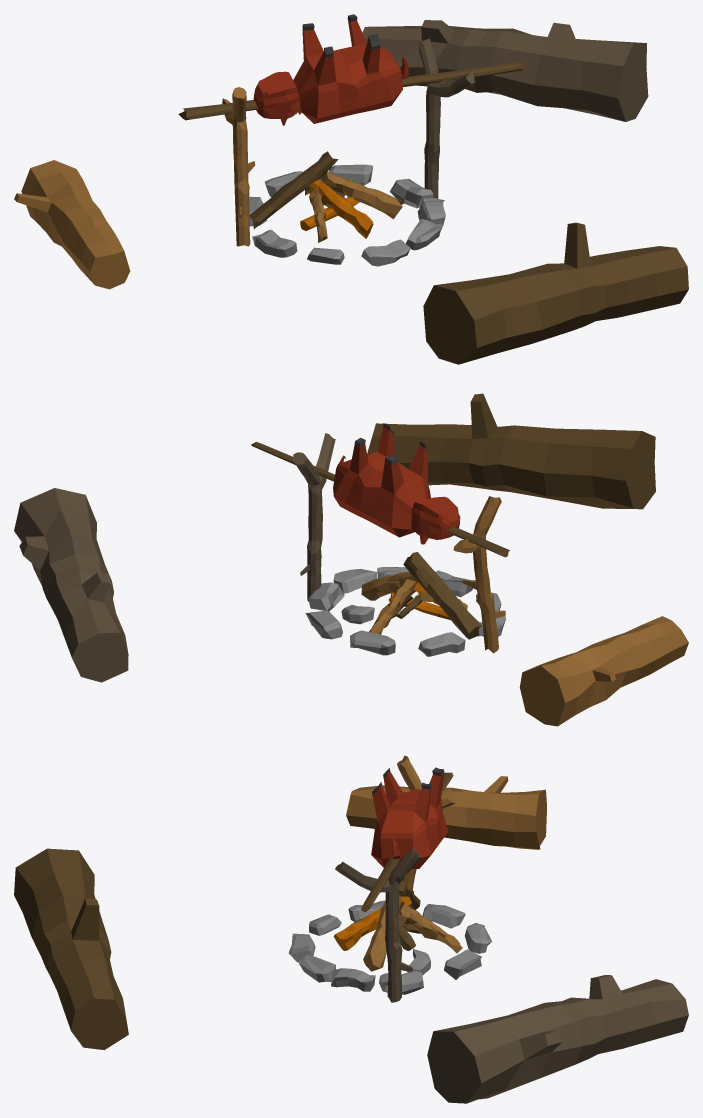
File: Army camp bonfire.fbx
The picture shows the model from 3 angles, top to bottom: view 1: azimuth 30°, elevation 25°; view 2: azimuth 150°, elevation 25°; view 3: azimuth 270°, elevation 25°; orthographic projection. The views are drawn at different scales.
Visible parts, largest first — view 1: Cylinder, Cube.010, Cylinder.011, Cylinder.012, Cylinder.013, Cylinder.003, Cylinder.002, Cylinder.004, Cube, Cube.002, Cube.006, Cube.008 (+3 smaller); view 2: Cylinder, Cube.010, Cylinder.011, Cylinder.012, Cylinder.003, Cylinder.013, Cylinder.002, Cylinder.009, Cube.004, Cube.003, Cube.006, Cube.005 (+2 smaller); view 3: Cylinder, Cube.010, Cylinder.011, Cylinder.009, Cylinder.004, Cylinder.002, Cylinder.012, Cube.007, Cube.003, Cube.005, Cylinder.013, Cube.008 (+3 smaller).
Part boxes in pixels (box(x1,y1,x2,y2)): Cylinder: box(14, 20, 688, 364); Cube.010: box(253, 14, 408, 125); Cylinder.011: box(418, 37, 475, 198); Cylinder.012: box(222, 87, 255, 246); Cylinder.013: box(178, 62, 525, 120); Cylinder.003: box(249, 151, 338, 228); Cylinder.002: box(319, 172, 404, 219); Cylinder.004: box(309, 179, 373, 238); Cube: box(361, 239, 410, 266); Cube.002: box(252, 229, 297, 257); Cube.006: box(390, 179, 433, 208); Cube.008: box(406, 219, 442, 250); Cylinder: box(14, 393, 688, 726); Cube.010: box(333, 423, 460, 544); Cylinder.011: box(292, 433, 335, 601); Cylinder.012: box(453, 496, 505, 653); Cylinder.003: box(403, 552, 482, 639); Cylinder.013: box(251, 441, 509, 557); Cylinder.002: box(361, 572, 418, 600); Cylinder.009: box(369, 579, 415, 634); Cube.004: box(350, 630, 395, 655); Cube.003: box(418, 632, 465, 656); Cube.006: box(308, 582, 344, 611); Cube.005: box(305, 610, 342, 639); Cylinder: box(14, 776, 688, 1103); Cube.010: box(371, 767, 448, 868); Cylinder.011: box(335, 848, 421, 1002); Cylinder.009: box(398, 901, 462, 953); Cylinder.004: box(333, 896, 411, 950); Cylinder.002: box(363, 895, 401, 971); Cylinder.012: box(397, 755, 455, 890); Cube.007: box(331, 968, 375, 991); Cube.003: box(422, 904, 465, 928); Cube.005: box(444, 949, 481, 979); Cylinder.013: box(361, 772, 453, 912); Cube.008: box(298, 954, 336, 982).
Bounding box in the file's own units: 2268 × 696 × 2192.
